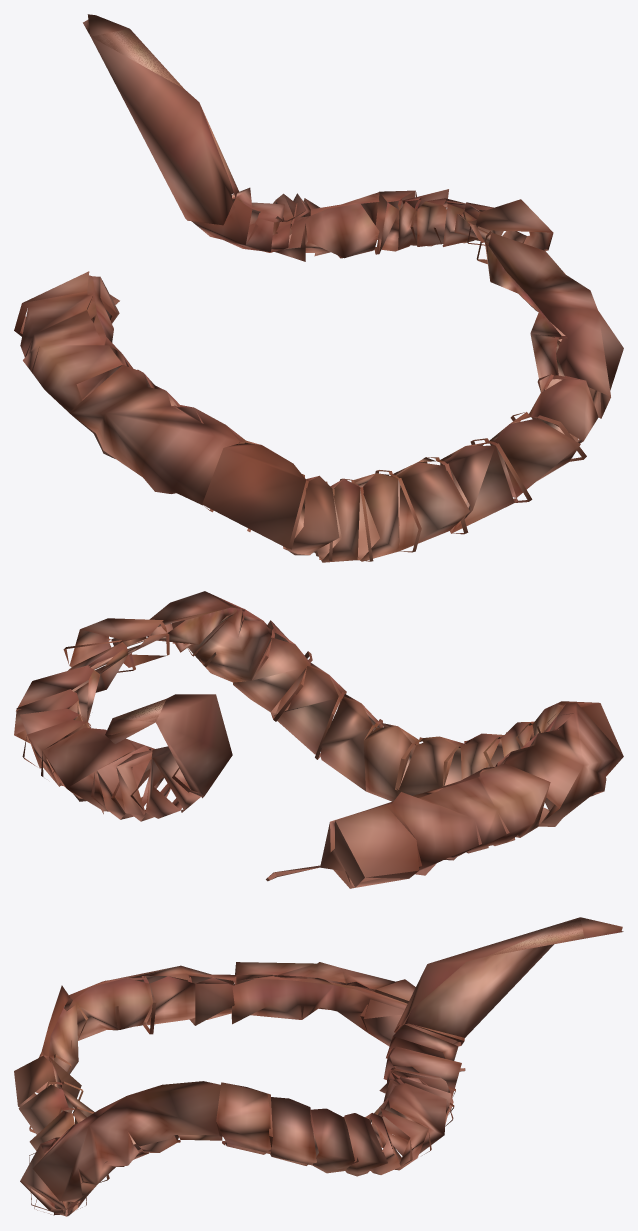
Rendered from PRP_Intestine_lod.glb.
3 renders of one model, top to bottom at view 1: azimuth 30°, elevation 25°; view 2: azimuth 150°, elevation 25°; view 3: azimuth 270°, elevation 25°, orthographic. The views are drawn at different scales.
Visible parts, largest first — view 1: Object_4; view 2: Object_4; view 3: Object_4.
Boxes of the visible parts, <box> form: Object_4: <box>14,14,623,562</box>; Object_4: <box>14,591,623,888</box>; Object_4: <box>14,917,623,1216</box>.
Size of the model in its own units: 22.15 by 13.1 by 26.96.
1 material, 1 textured.
